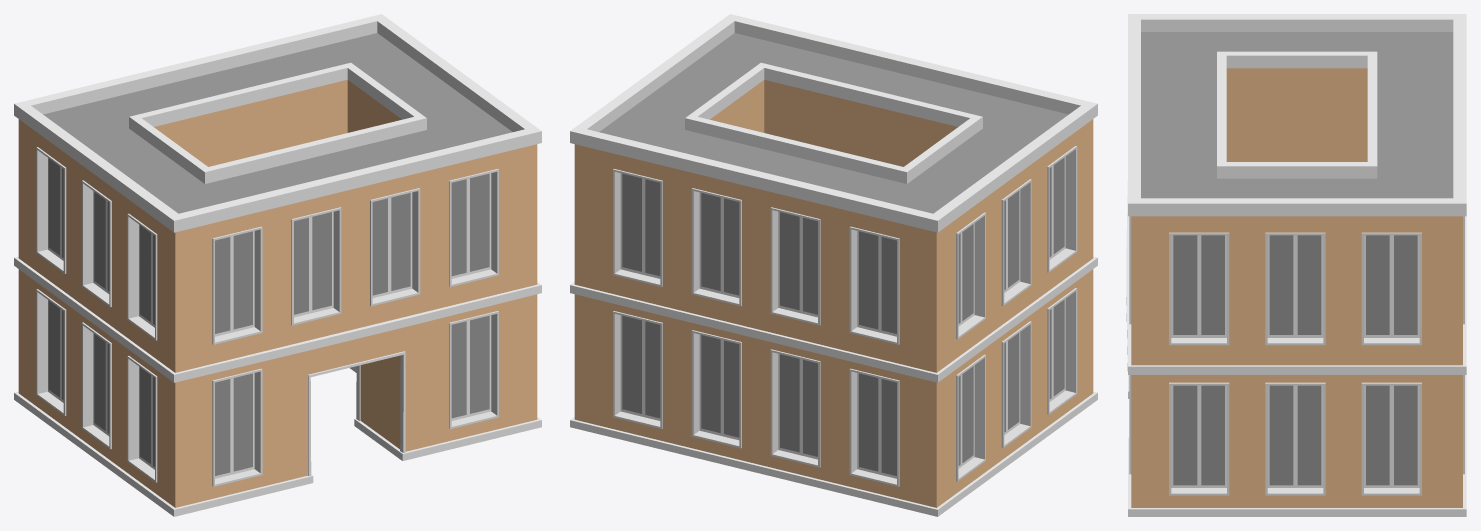
Rendered from SM_House_22_01.FBX.
The picture shows the model from 3 angles, left to right: view 1: azimuth 30°, elevation 25°; view 2: azimuth 150°, elevation 25°; view 3: azimuth 270°, elevation 25°; orthographic projection. The views are drawn at different scales.
Parts seen in each view (by area): view 1: SM_House_22_01; view 2: SM_House_22_01; view 3: SM_House_22_01.
Part boxes in pixels (x1,y1,x2,y2): SM_House_22_01: [14, 14, 541, 516]; SM_House_22_01: [570, 14, 1097, 516]; SM_House_22_01: [1126, 14, 1466, 516].
Size of the model in its own units: 8.12 by 6.25 by 6.15.
Materials: 1 (1 with a texture image).
